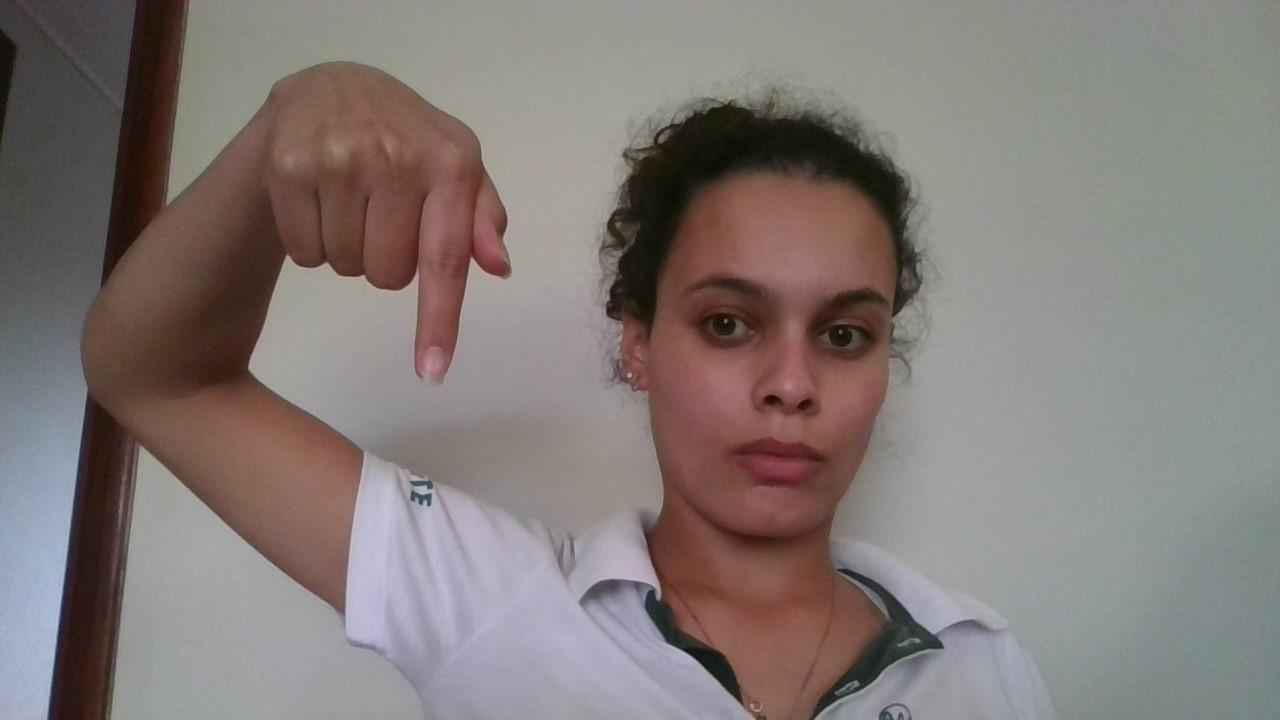Q: (266, 54, 516, 394)
